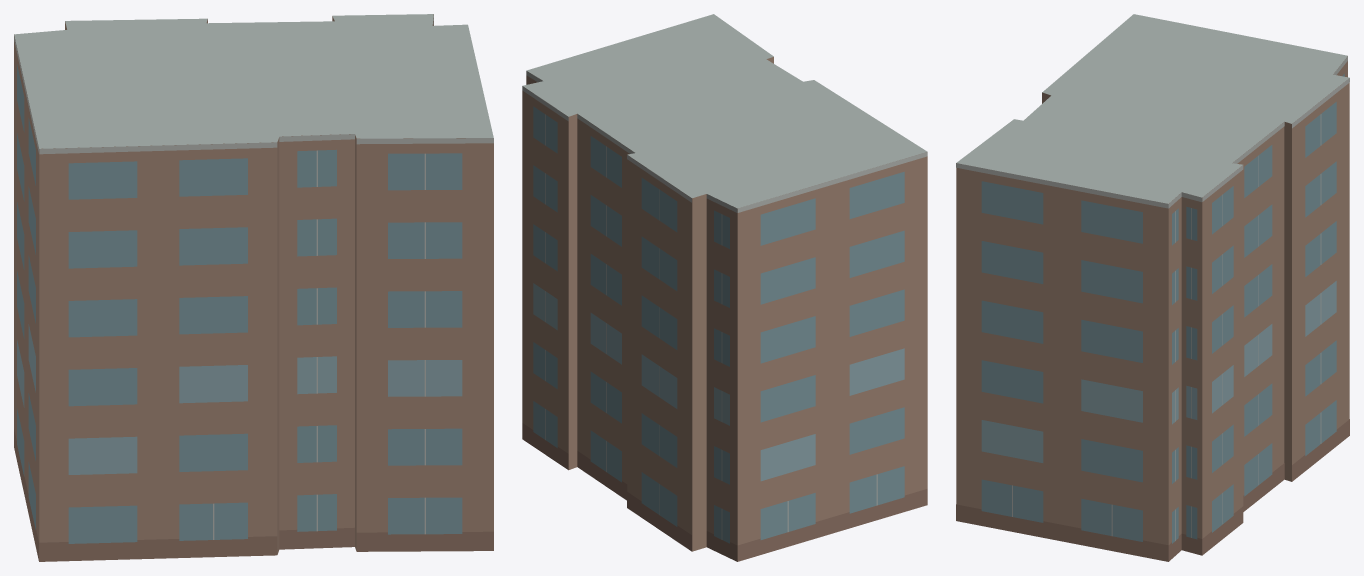
Rendered from survey-upis-32887861.glb.
3 renders of one model, left to right at view 1: azimuth 30°, elevation 25°; view 2: azimuth 150°, elevation 25°; view 3: azimuth 270°, elevation 25°, orthographic. The views are drawn at different scales.
Parts seen in each view (by area): view 1: survey-upis-32887861.tmp; view 2: survey-upis-32887861.tmp; view 3: survey-upis-32887861.tmp.
Boxes of the visible parts, bbox=[...] form: survey-upis-32887861.tmp: bbox=[14, 14, 493, 561]; survey-upis-32887861.tmp: bbox=[522, 14, 927, 561]; survey-upis-32887861.tmp: bbox=[956, 14, 1349, 561].
Bounding box in the file's own units: 21.17 × 18.6 × 18.55.
